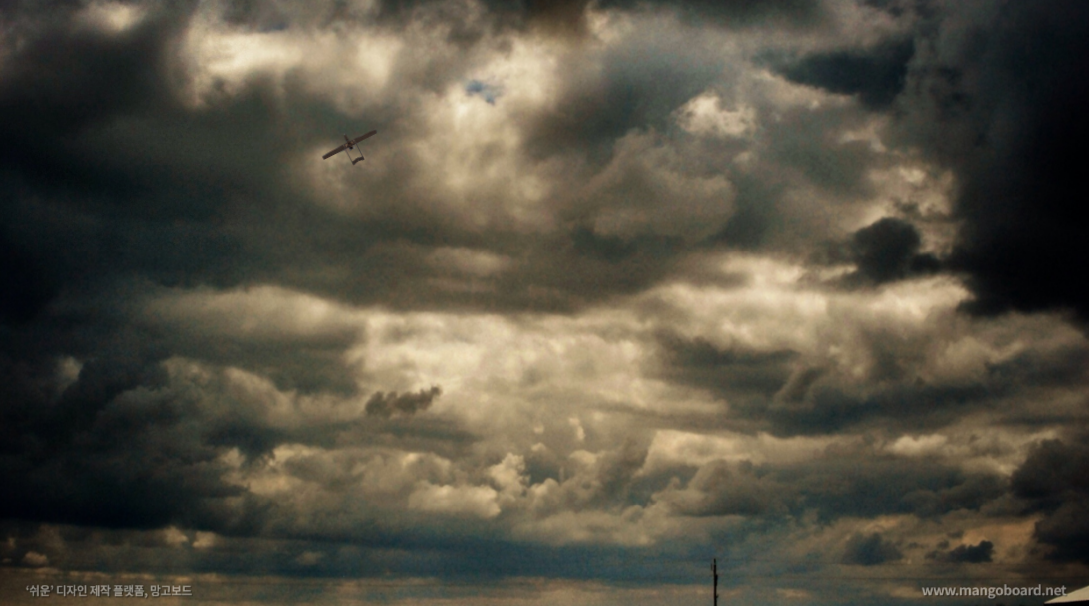military drone: (322, 129, 376, 165)
